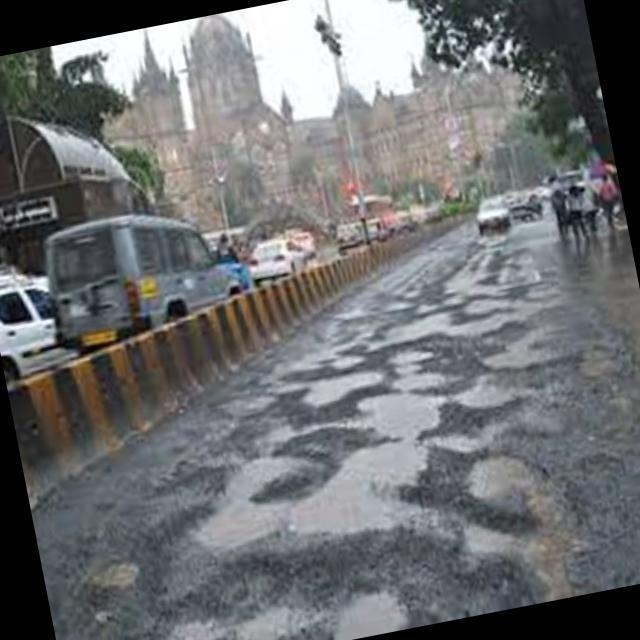pothole: (392, 258, 623, 414), (467, 452, 588, 576), (328, 423, 441, 530), (204, 444, 289, 554), (332, 570, 409, 640), (266, 368, 376, 406), (86, 551, 150, 598)
